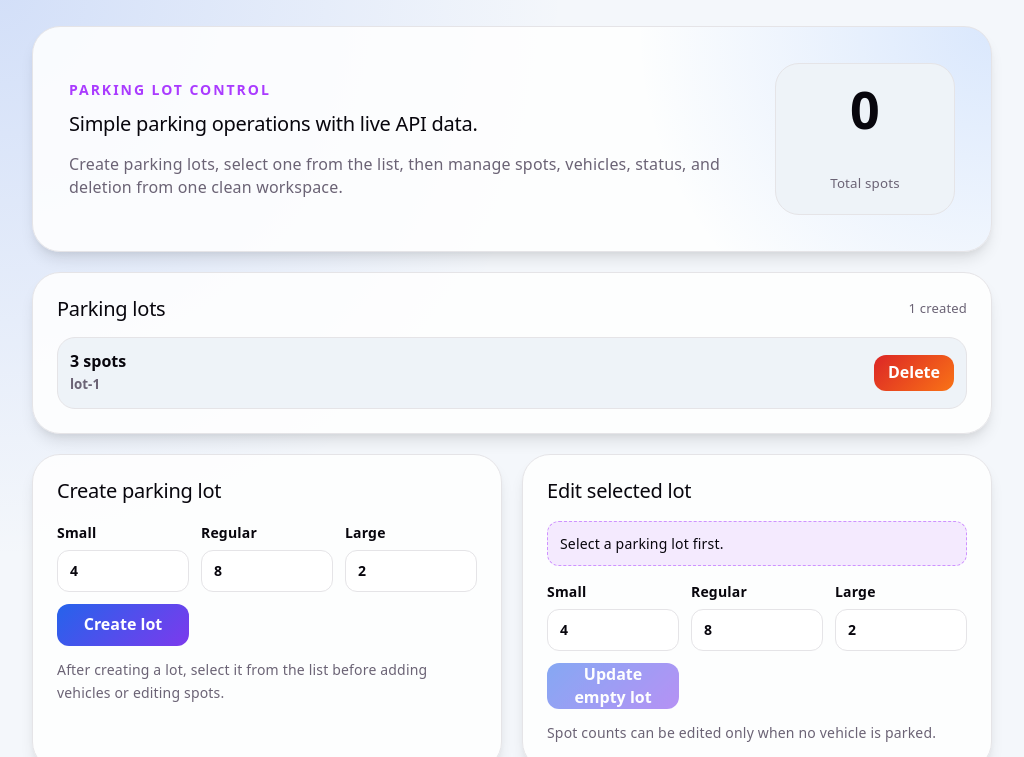
shows the operation message from json error responses
Click the button "3 spots lot-1" at x=103, y=361, box [70, 350, 862, 396]
(page scrolled)
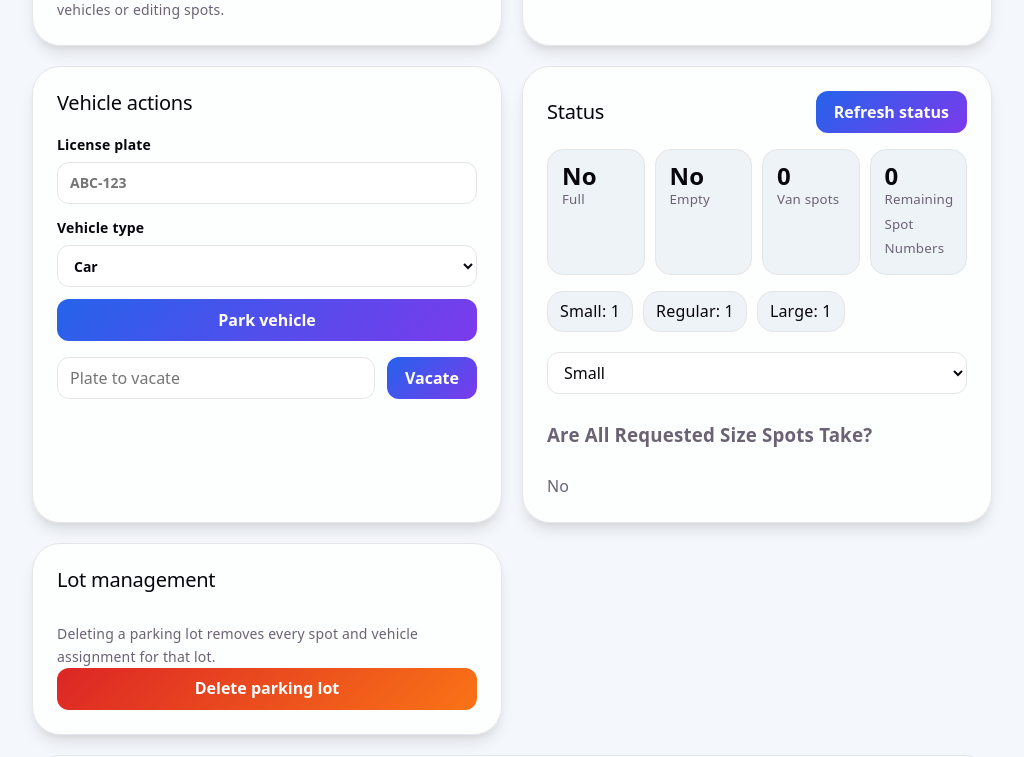
Type "TEST" into the field with placeholder "Plate to vacate" at x=216, y=378, box [57, 357, 375, 399]
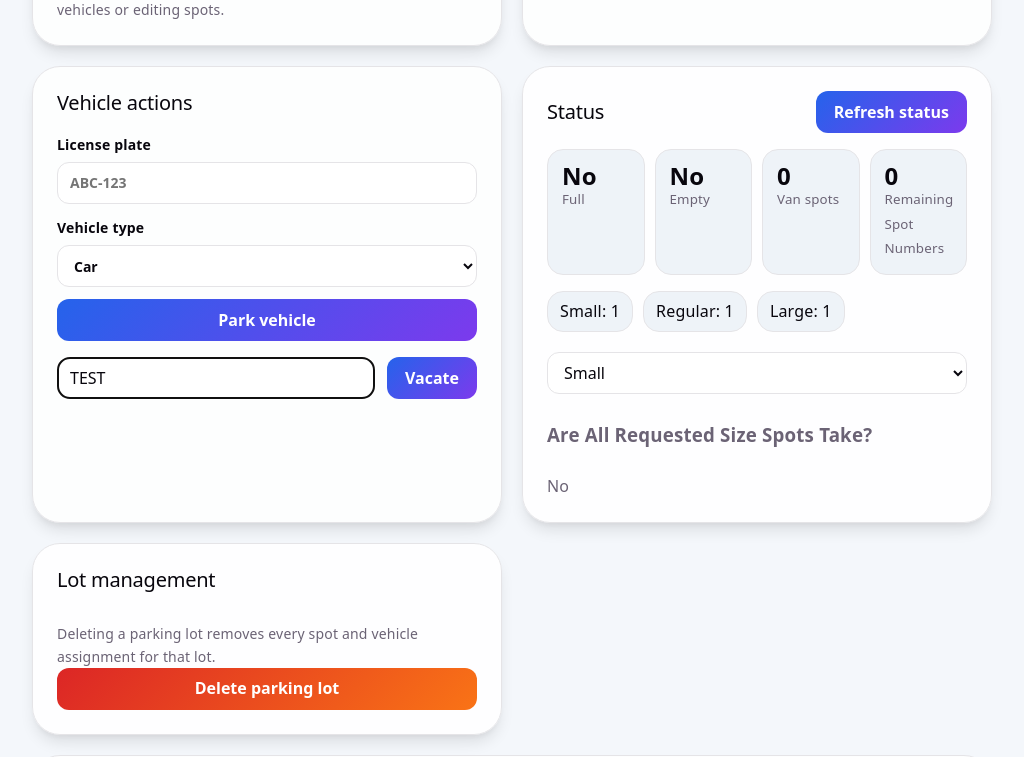
Click the button "Vacate" at x=432, y=378, box [387, 357, 477, 399]
(page scrolled)
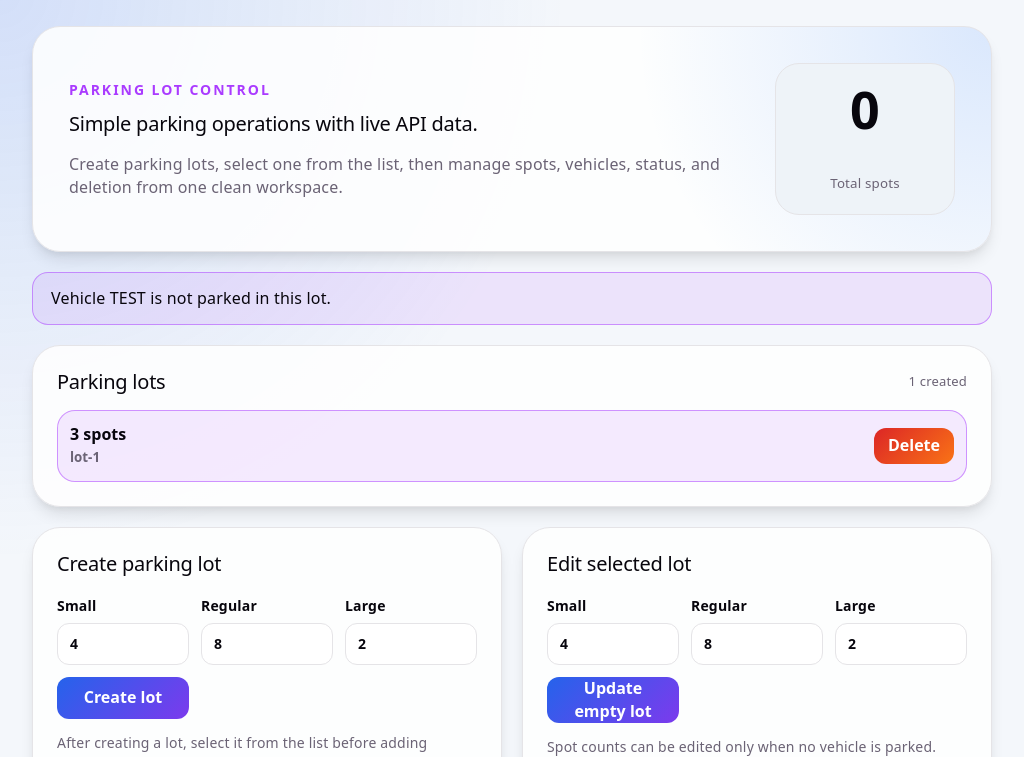
Now the text "Vehicle TEST is not parked in this lot." is shown, box [32, 272, 992, 325]
